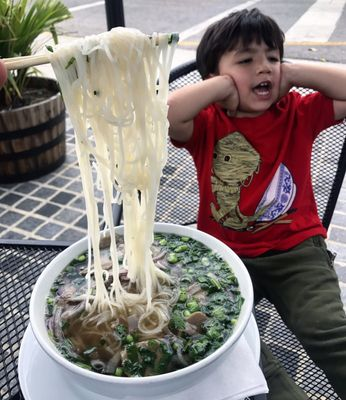sushi: (27, 222, 256, 398)
